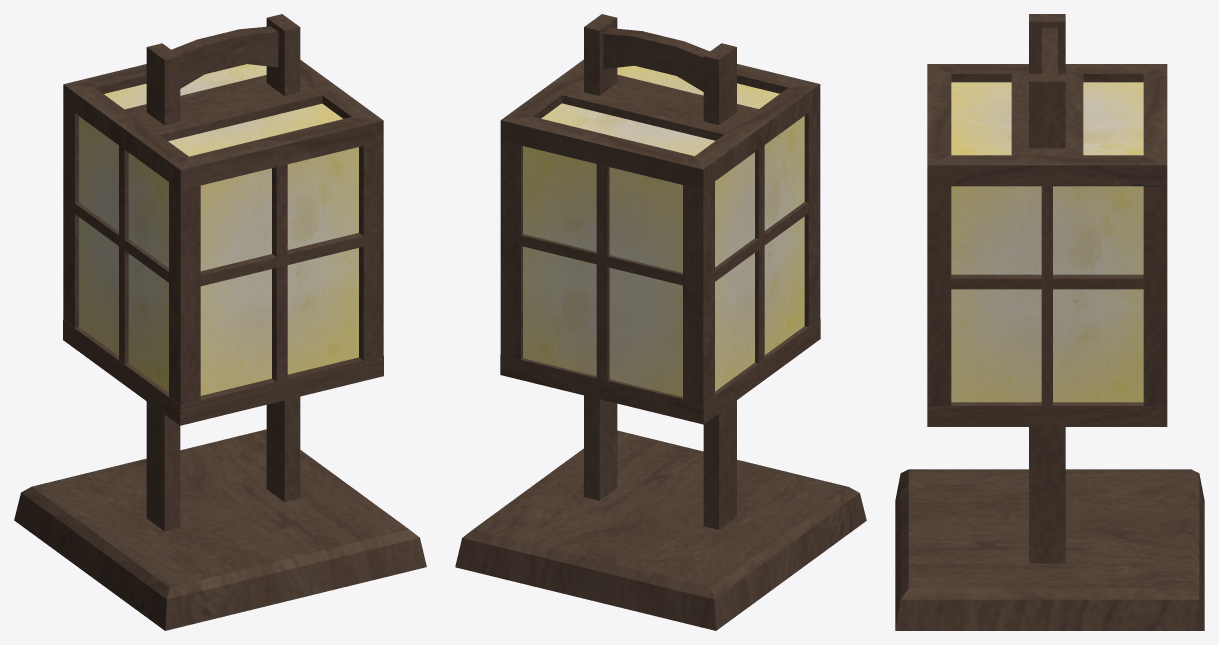
Rendered from paperlantern02.fbx.
3 renders of one model, left to right at view 1: azimuth 30°, elevation 25°; view 2: azimuth 150°, elevation 25°; view 3: azimuth 270°, elevation 25°, orthographic. The views are drawn at different scales.
Visible parts, largest first — view 1: paperlantern02; view 2: paperlantern02; view 3: paperlantern02.
Boxes of the visible parts, x1=… form: paperlantern02: x1=14, y1=14, x2=426, y2=630; paperlantern02: x1=455, y1=14, x2=866, y2=630; paperlantern02: x1=895, y1=14, x2=1204, y2=630.
Bounding box in the file's own units: 43.65 × 80.8 × 43.65.
